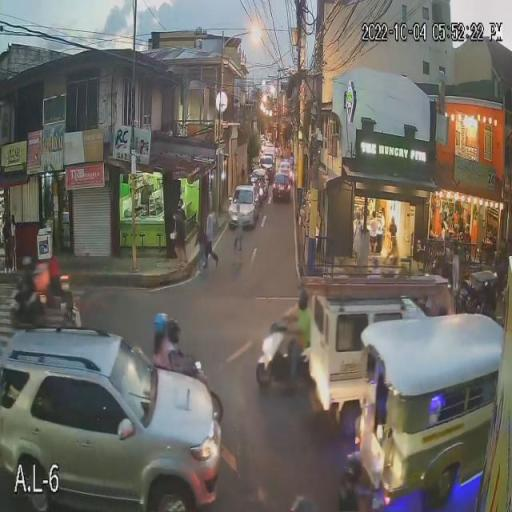helmet: (165, 319, 181, 344), (297, 287, 309, 310), (154, 313, 167, 334), (21, 257, 33, 271)
motorcycle: (254, 320, 310, 382), (10, 288, 46, 323), (184, 354, 206, 378)
rider: (288, 310, 309, 387), (18, 274, 32, 316), (153, 335, 170, 367), (170, 342, 186, 373)
